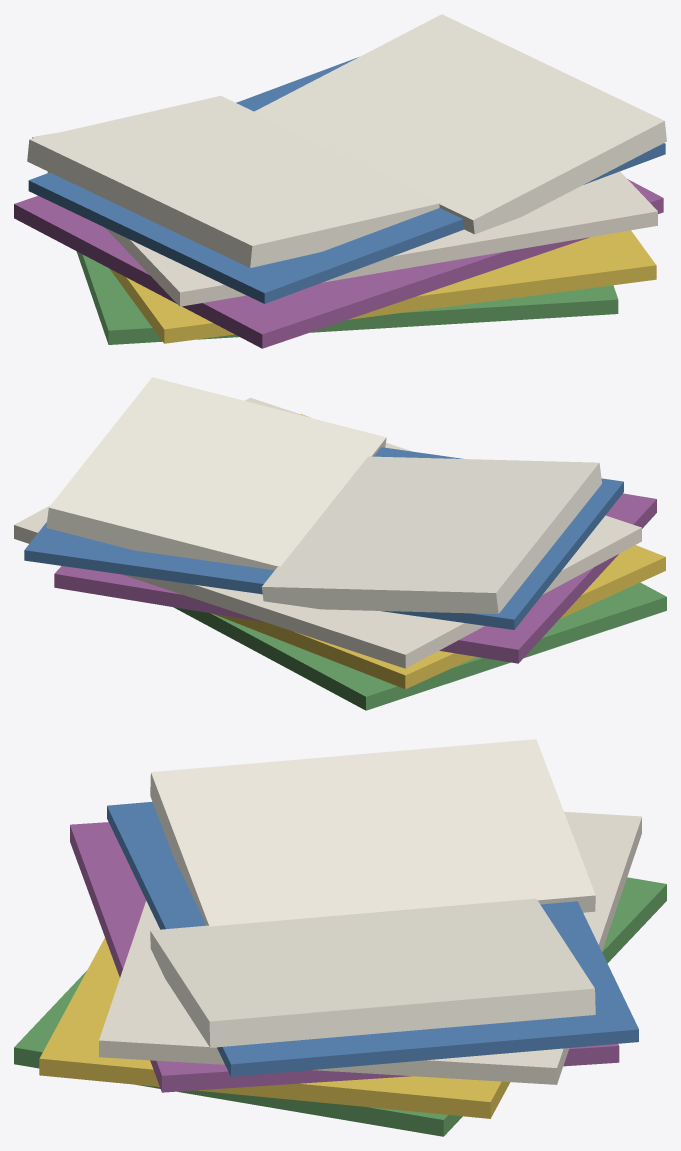
File: book_stack_mags.glb
3 views of the same model, one above another, from view 1: azimuth 30°, elevation 25°; view 2: azimuth 150°, elevation 25°; view 3: azimuth 270°, elevation 25° (orthographic). The views are drawn at different scales.
Visible parts, largest first — view 1: book_stack_mags; view 2: book_stack_mags; view 3: book_stack_mags.
Boxes of the visible parts, box(x1,y1,x2,y2) form: book_stack_mags: box(14, 14, 666, 348); book_stack_mags: box(14, 377, 666, 710); book_stack_mags: box(14, 739, 666, 1136).
Size of the model in its own units: 0.3231 by 0.0557 by 0.2822.
